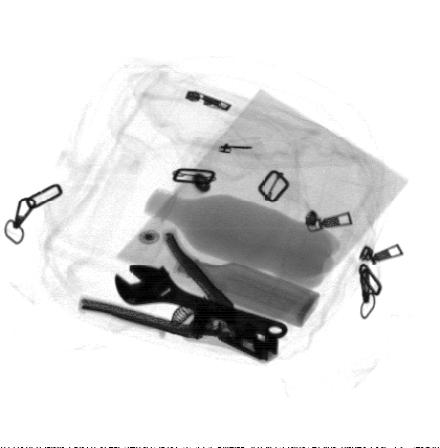Pliers: (77, 229, 281, 365)
Wrench: (112, 263, 289, 339)
